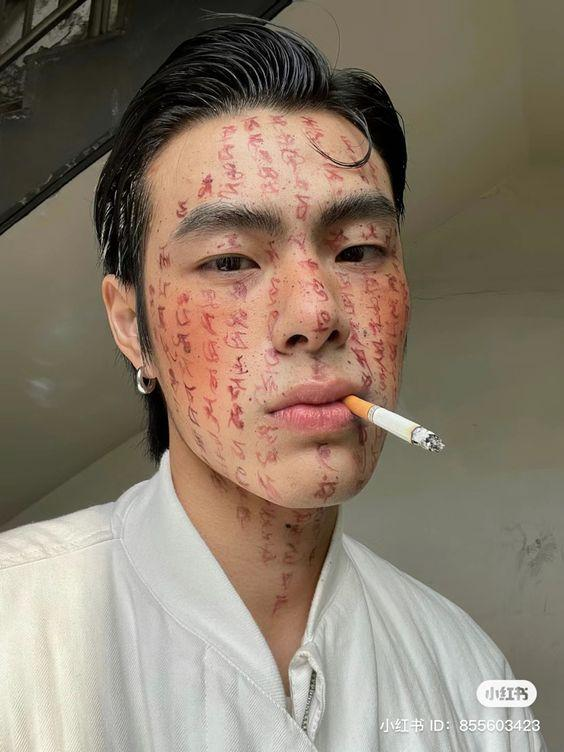cigarette: (342, 395, 446, 454)
